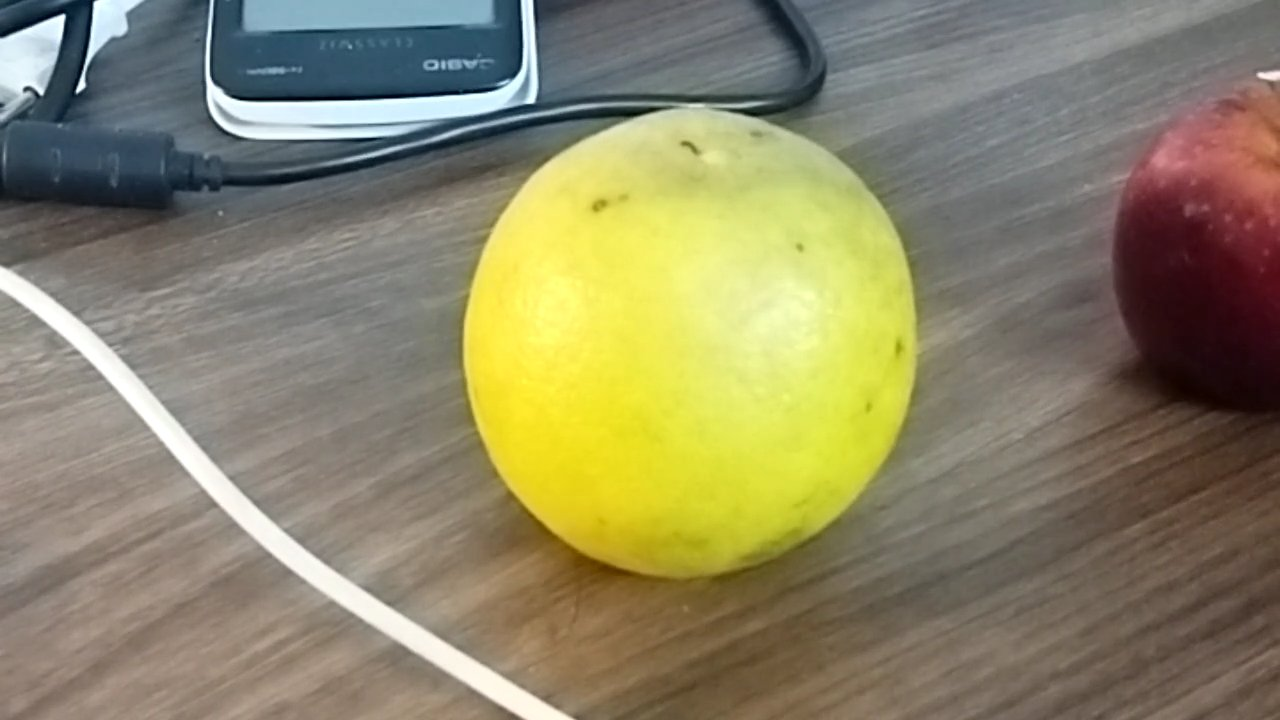apple_fresh: (1102, 54, 1280, 433)
orange_fresh: (443, 104, 949, 586)
